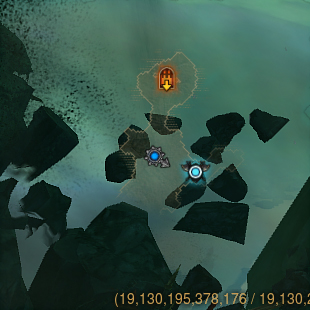Exit: (155, 65, 178, 95)
